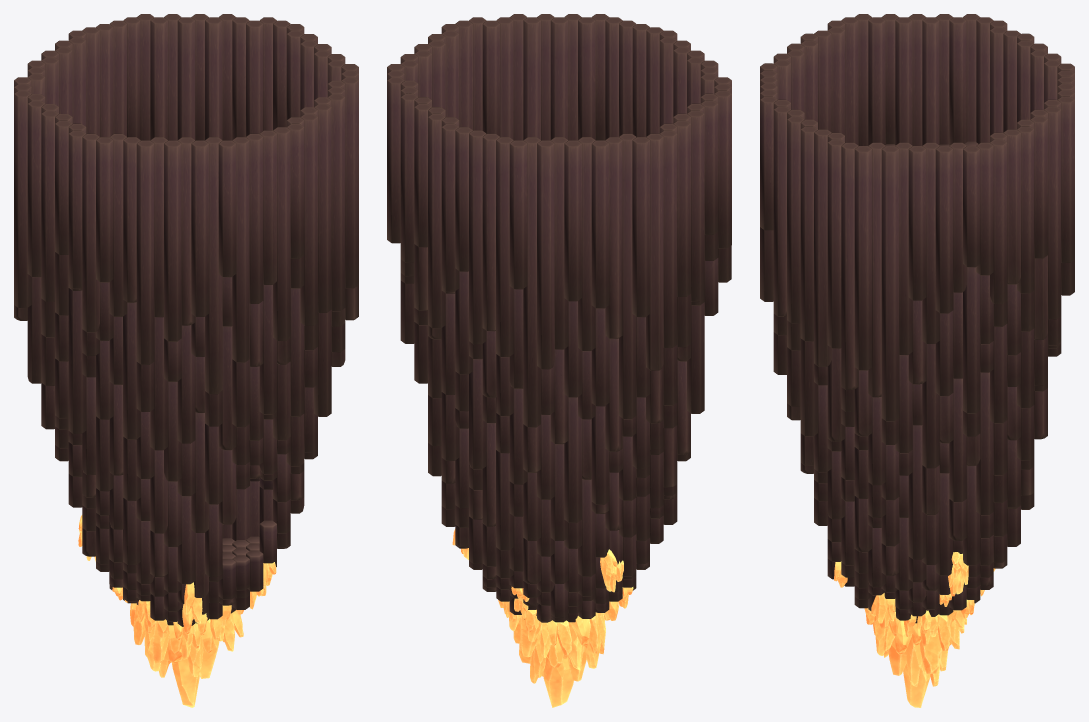
The model's file is Room04_UpdateRoof.fbx.
3 renders of one model, left to right at view 1: azimuth 30°, elevation 25°; view 2: azimuth 150°, elevation 25°; view 3: azimuth 270°, elevation 25°, orthographic.
Visible parts, largest first — view 1: Basalt_Pillars_Roof, Crystal_Roof, Basalt_Pillars_Roof(NoCol); view 2: Basalt_Pillars_Roof, Crystal_Roof; view 3: Basalt_Pillars_Roof, Crystal_Roof.
Part boxes in pixels (x1=…): Basalt_Pillars_Roof: x1=14, y1=14, x2=358, y2=626; Crystal_Roof: x1=78, y1=515, x2=276, y2=707; Basalt_Pillars_Roof(NoCol): x1=222, y1=536, x2=263, y2=570; Basalt_Pillars_Roof: x1=387, y1=14, x2=731, y2=622; Crystal_Roof: x1=452, y1=529, x2=633, y2=707; Basalt_Pillars_Roof: x1=760, y1=14, x2=1074, y2=623; Crystal_Roof: x1=834, y1=552, x2=995, y2=707.
Size of what is drawn, in the model's own units: 62.93 by 132 by 60.43.
